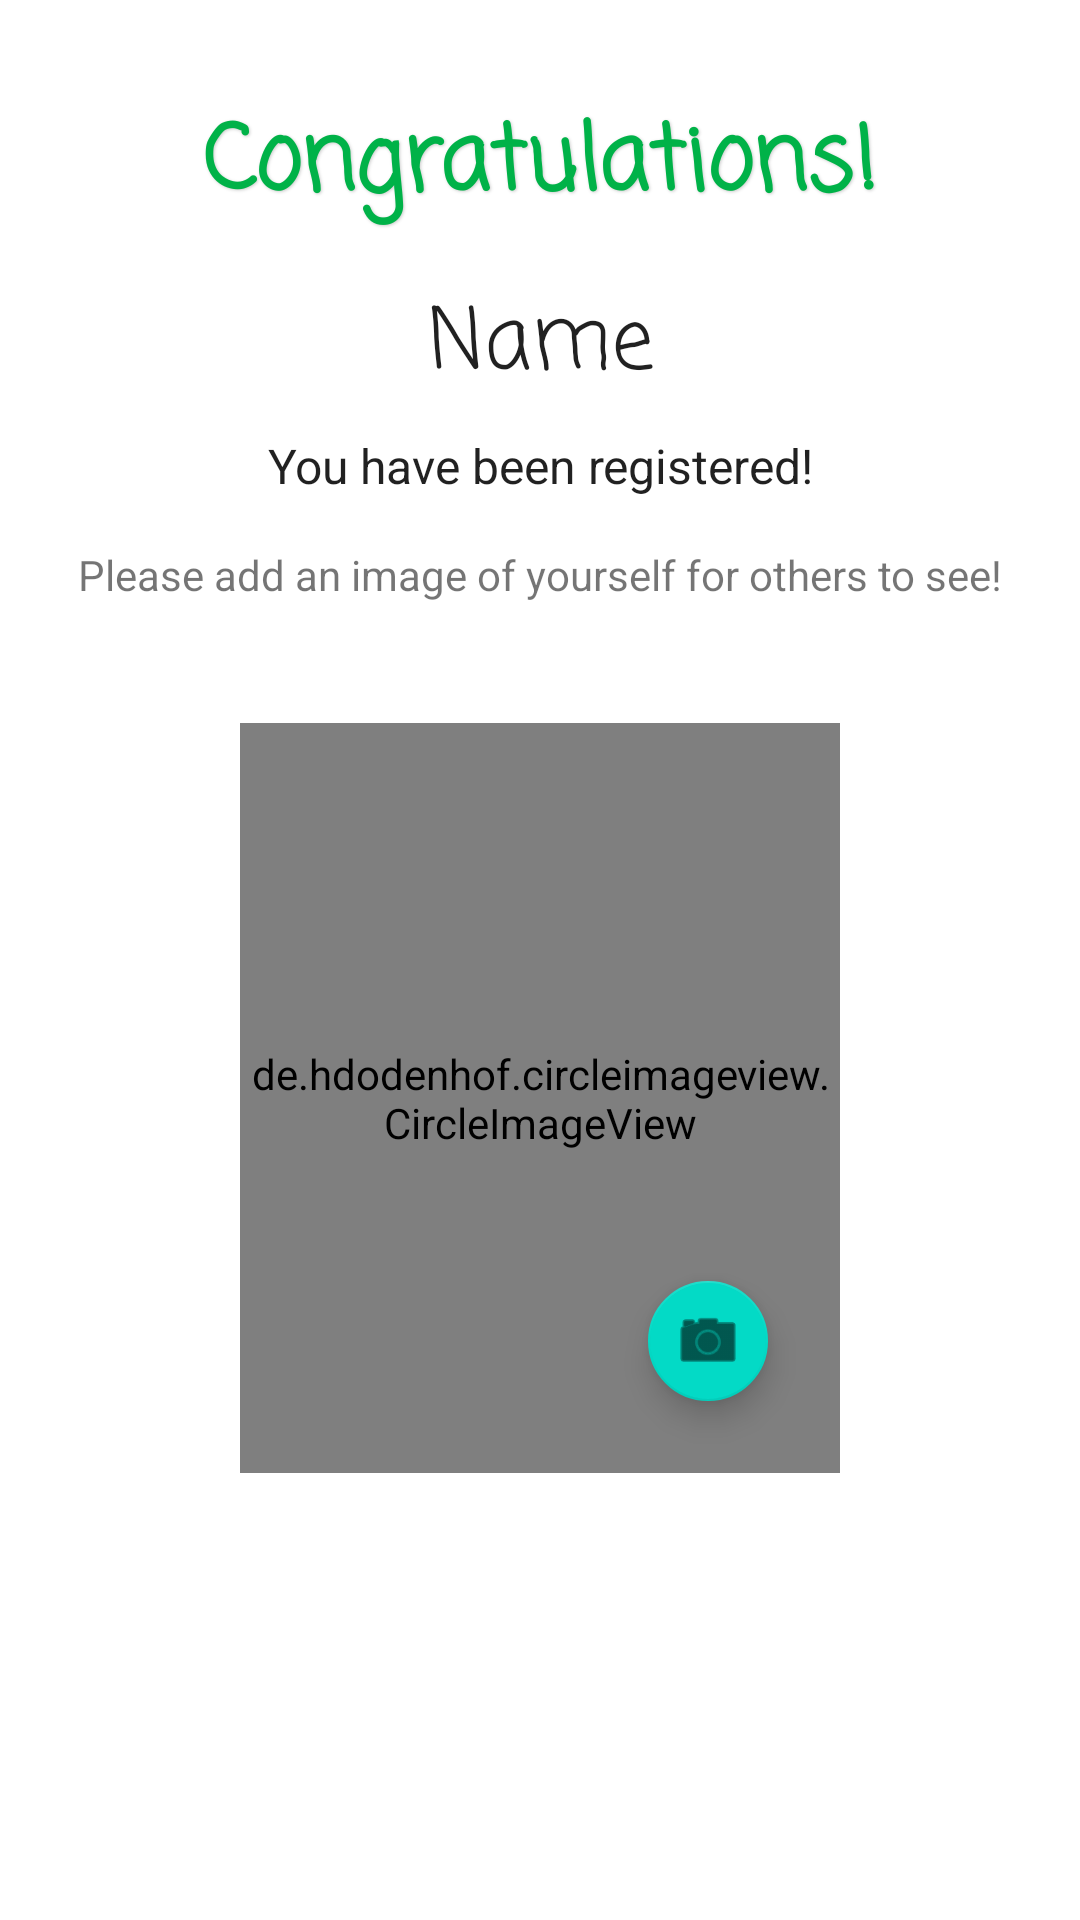

Where icons sit on this 1080w x 1920h app screen, as {"x1": x1, "y1": y1, "x2": x2, "y2": y2}:
camera: {"x1": 648, "y1": 1281, "x2": 768, "y2": 1401}
